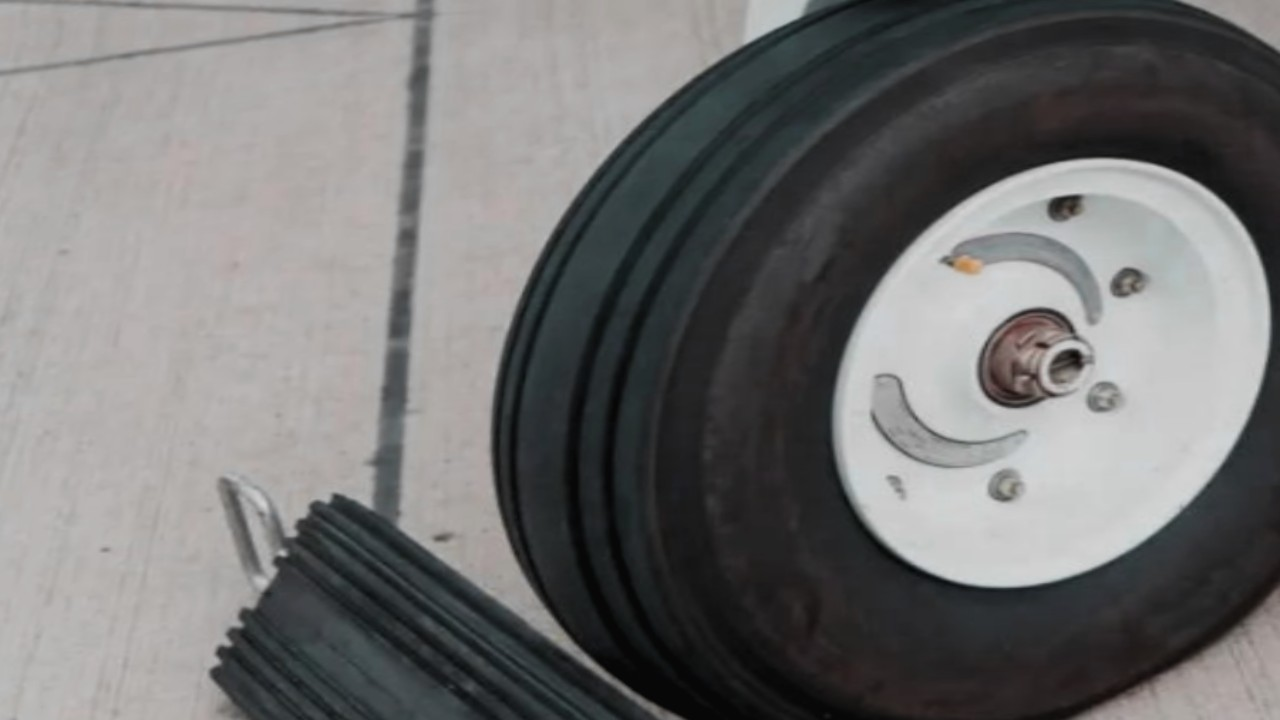chock: (163, 474, 888, 720)
wheel: (465, 0, 1280, 720)
